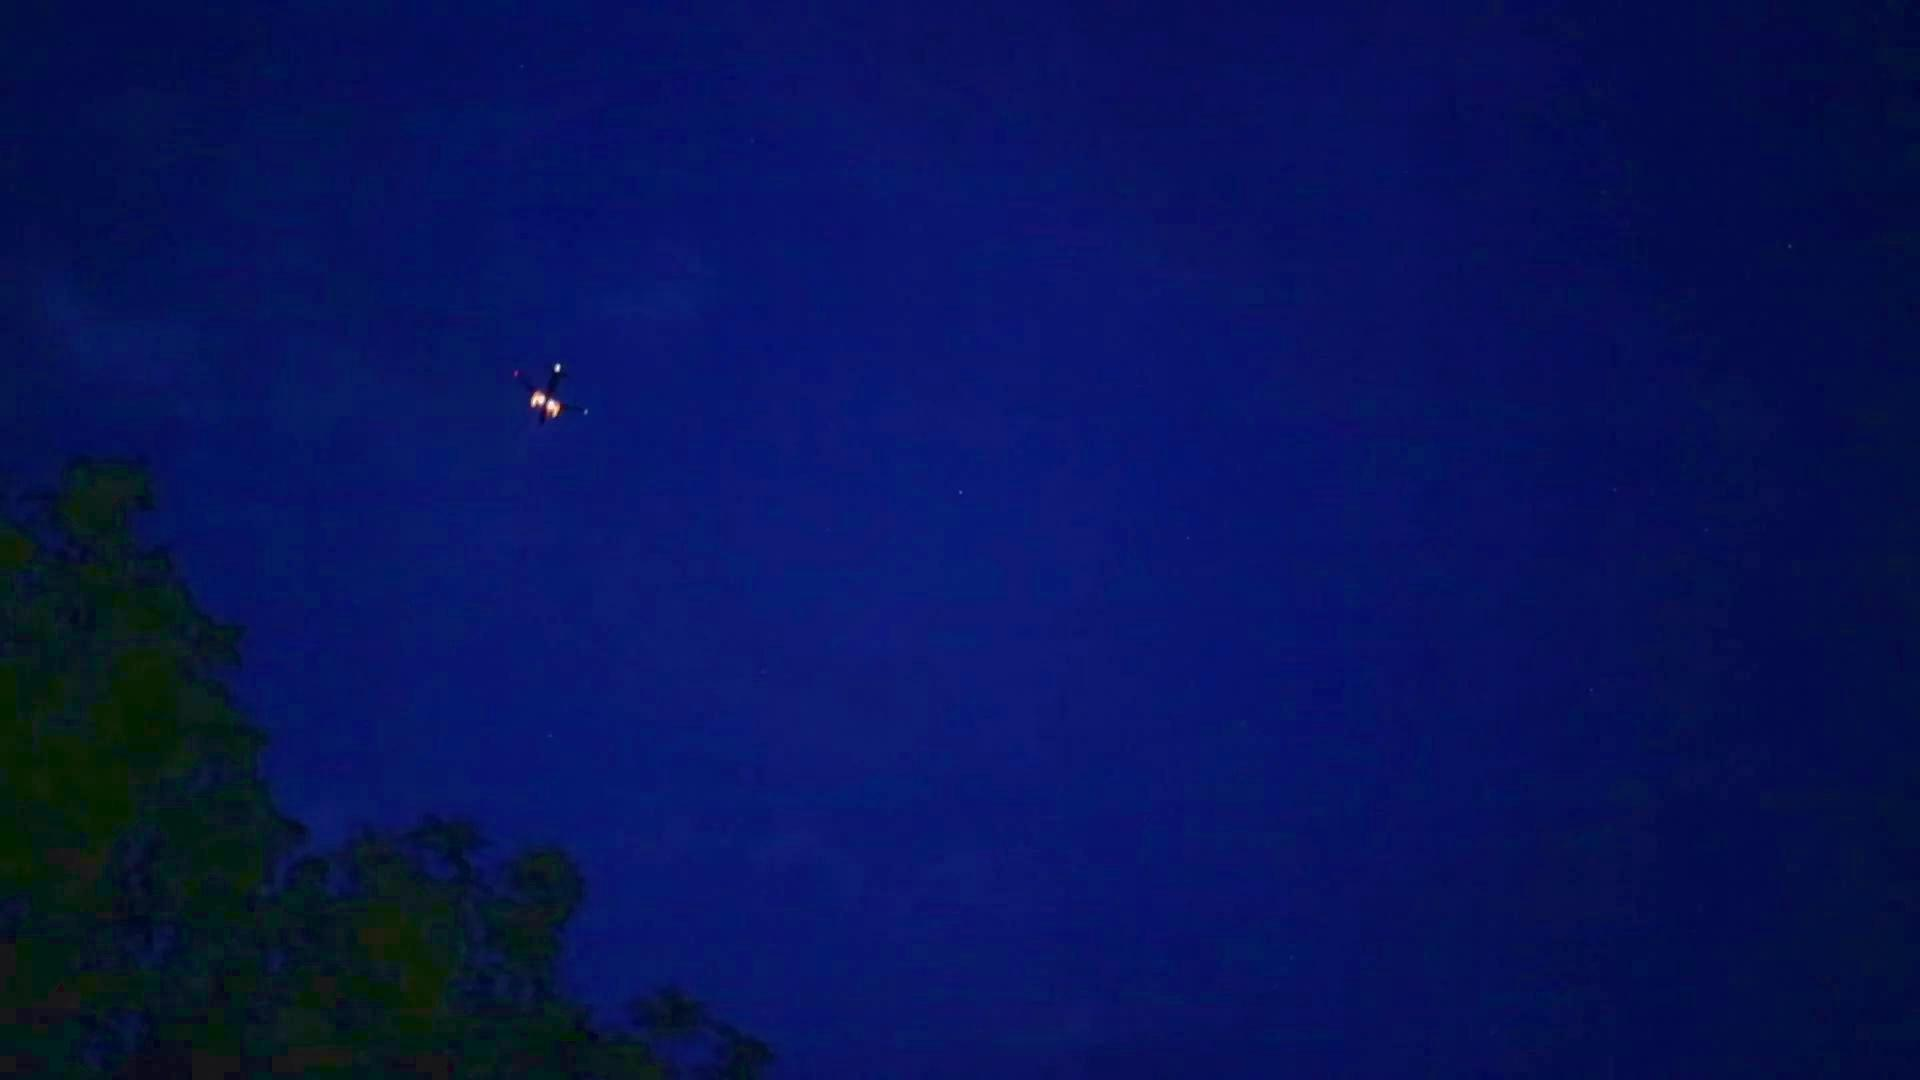Plane: (495, 345, 599, 442)
